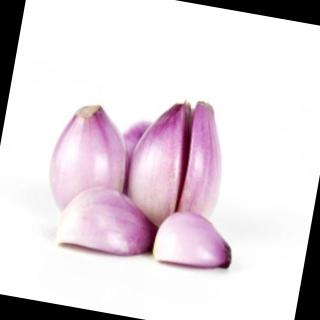Bawang Merah: (121, 90, 238, 239), (40, 96, 142, 230), (54, 181, 166, 266), (150, 205, 240, 277)
